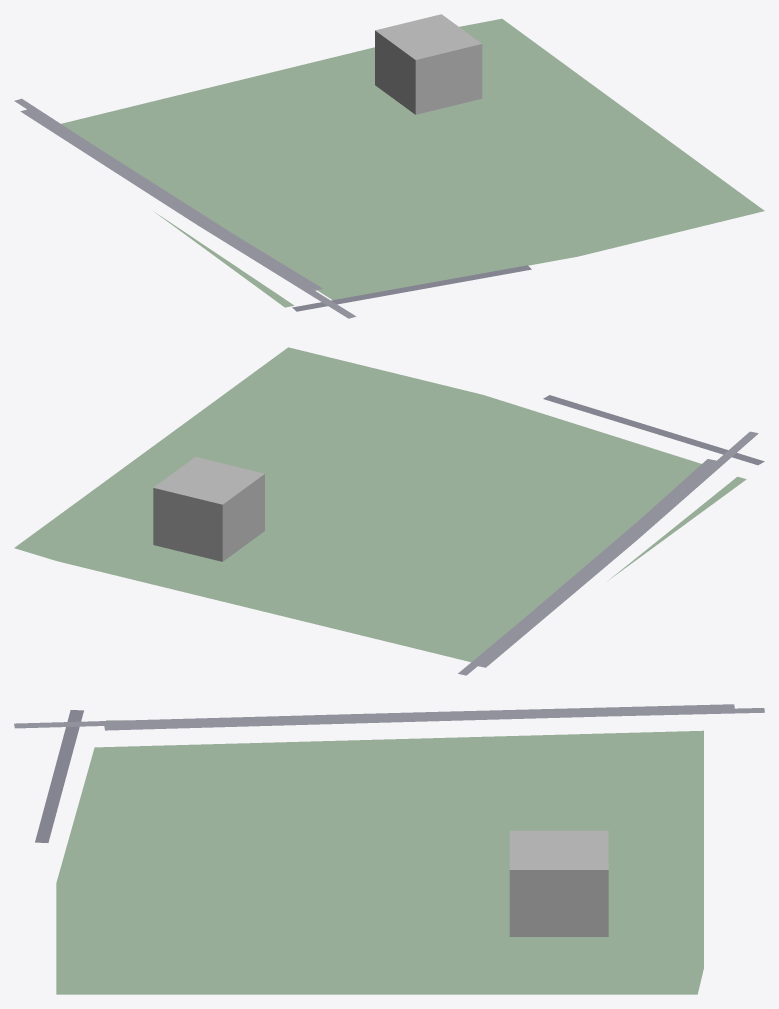
File: 124_128_mid.glb
3 views of the same model, one above another, from view 1: azimuth 30°, elevation 25°; view 2: azimuth 150°, elevation 25°; view 3: azimuth 270°, elevation 25° (orthographic). The views are drawn at different scales.
Size of the model in its own units: 508 by 57.2 by 580.
